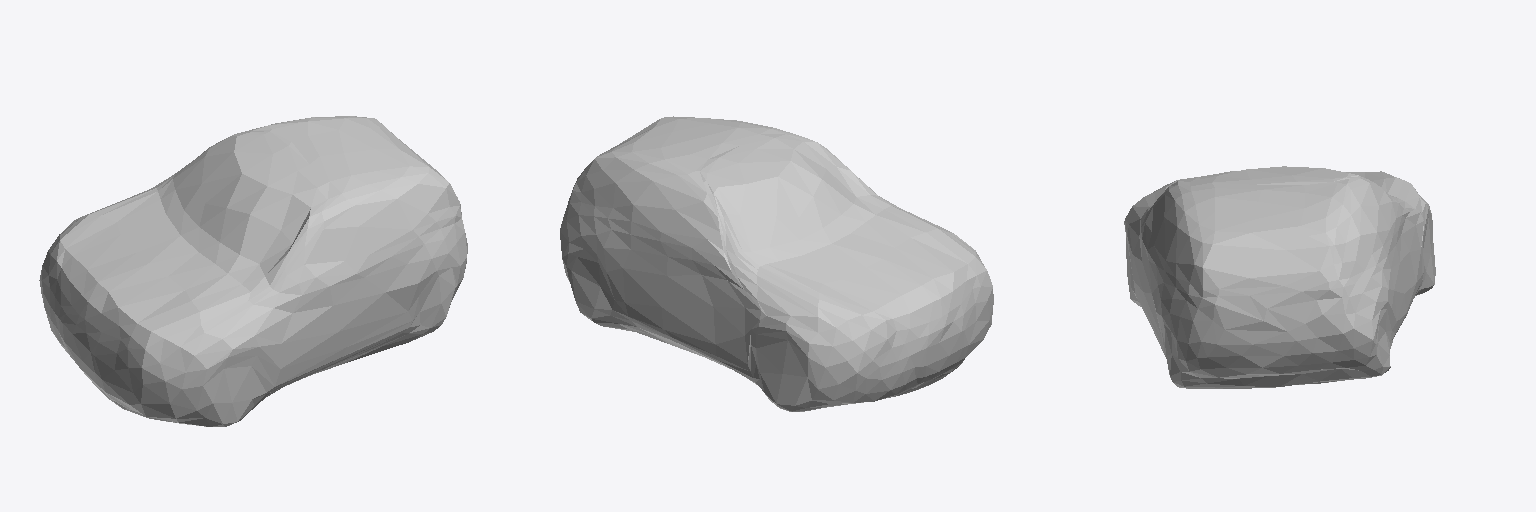
Rendered from video3_97.obj.
3 views of the same model, side by side, from view 1: azimuth 30°, elevation 25°; view 2: azimuth 150°, elevation 25°; view 3: azimuth 270°, elevation 25° (orthographic).
Size of the model in its own units: 1 by 0.5137 by 0.7516.